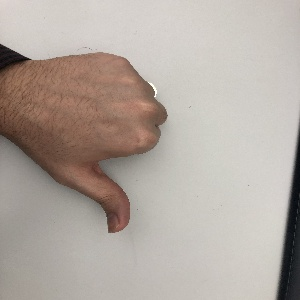hand: (34, 52, 167, 234)
